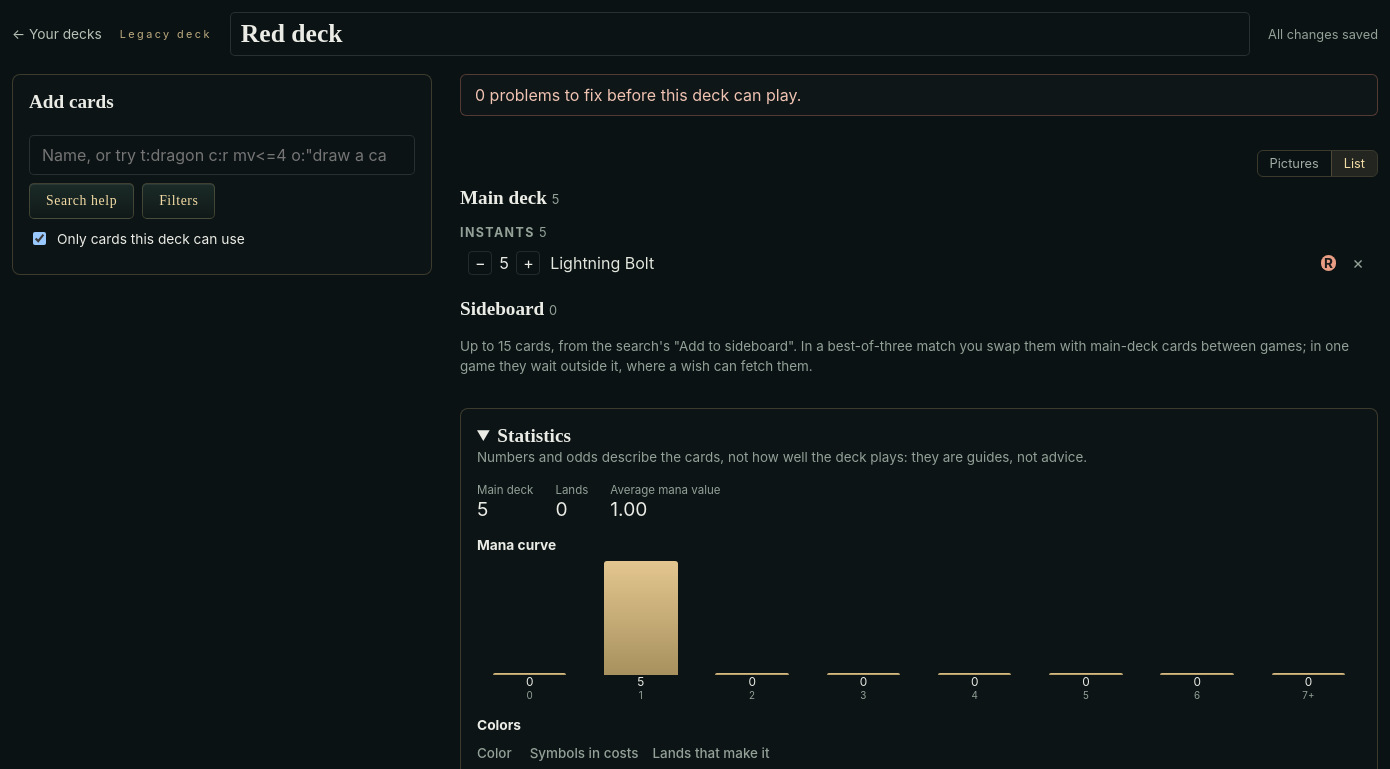
it: the deck editor › keeps the first edit when StrictMode's other request for the deck answers after it
The width and height of the screenshot is (1390, 769).
Click the button named "One fewer Lightning Bolt".
click(480, 263)  # box [468,251,492,275]
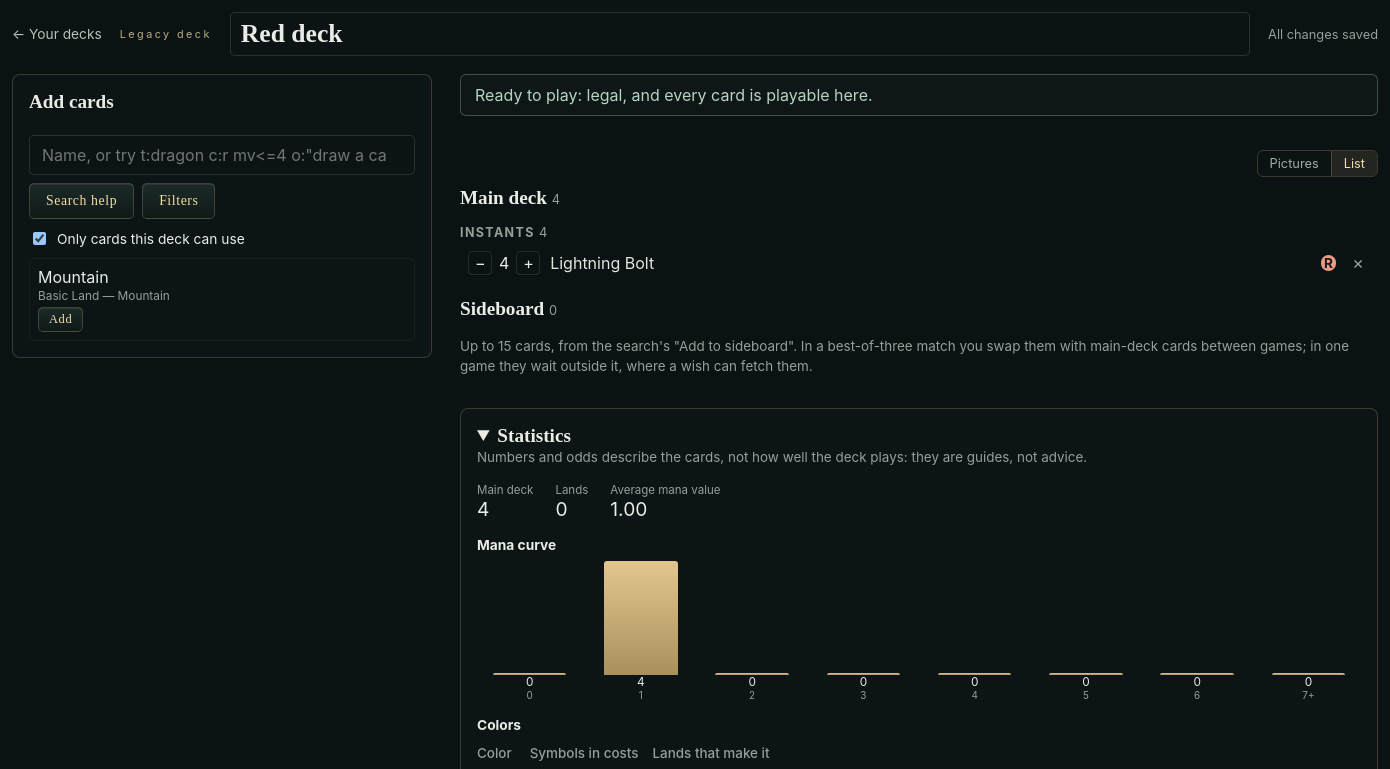
Expected: the text "All changes saved" is shown, [1268,26,1378,42]
Expected: the text named "4 copies" is shown, [499,253,509,273]
